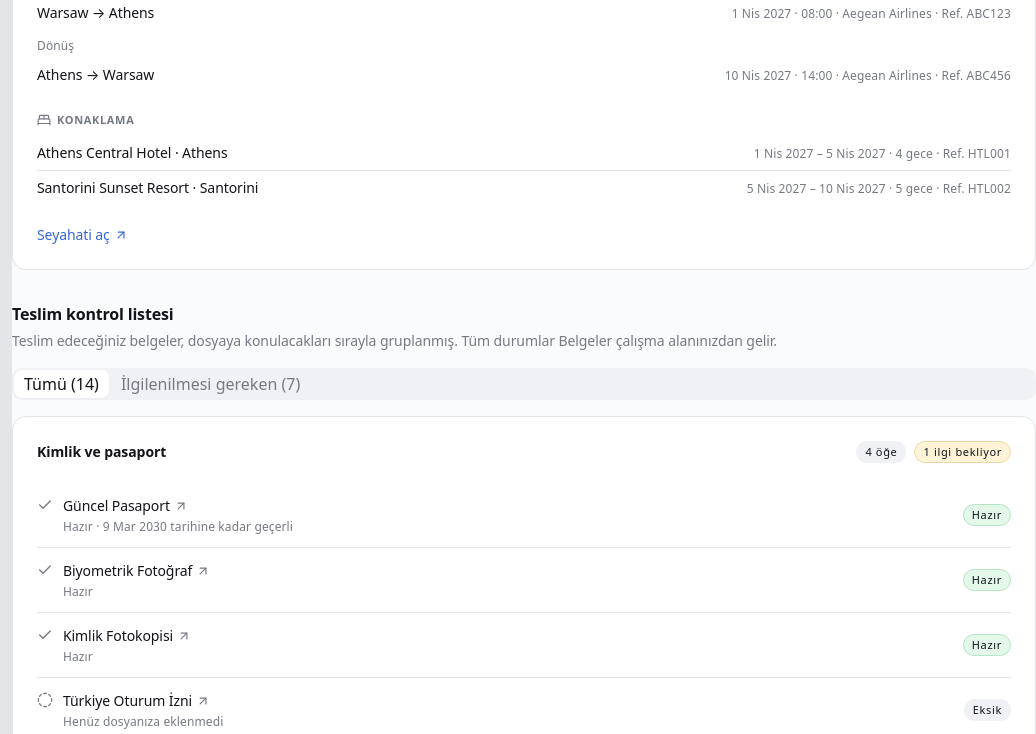
it: Final Review — checklist filter › isolates the unresolved items when filtered
The image size is (1036, 734).
(page scrolled)
Check: the radio button labelled "Tümü (14)" is shown, box top-left (14, 370), bottom-right (109, 398)
Click the radio button labelled "İlgilenilmesi gereken (7)" at {"x": 211, "y": 384}, box top-left (111, 370), bottom-right (310, 398)
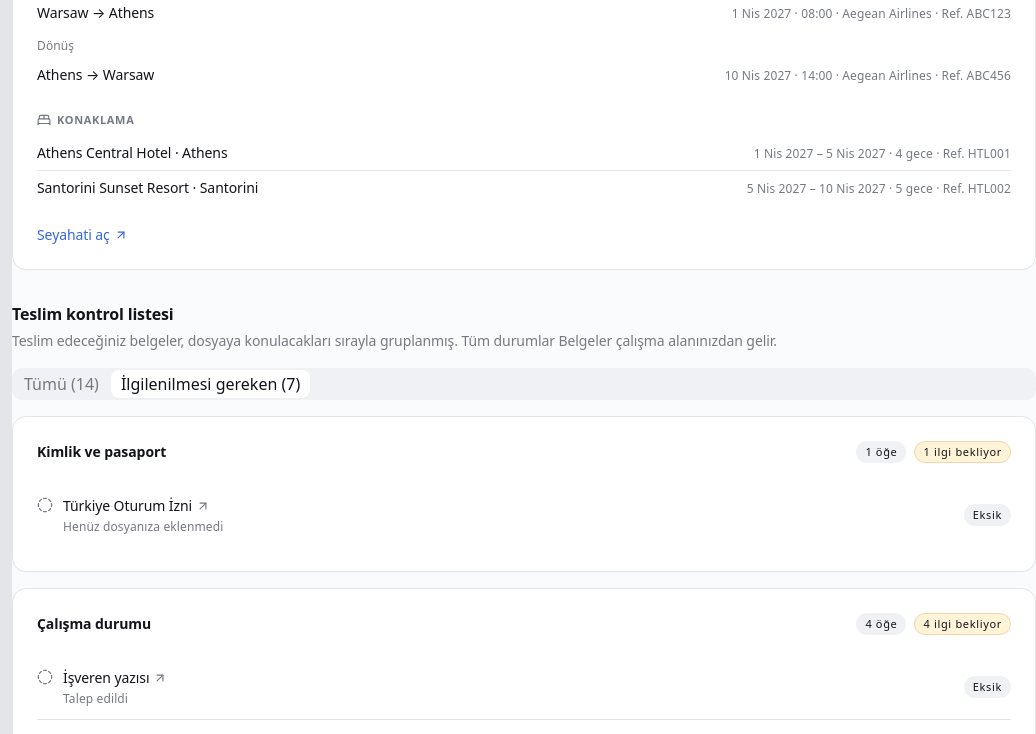
...and switching back restores the full list exactly.
Click the radio button labelled "Tümü (14)" at {"x": 61, "y": 384}, box top-left (14, 370), bottom-right (109, 398)
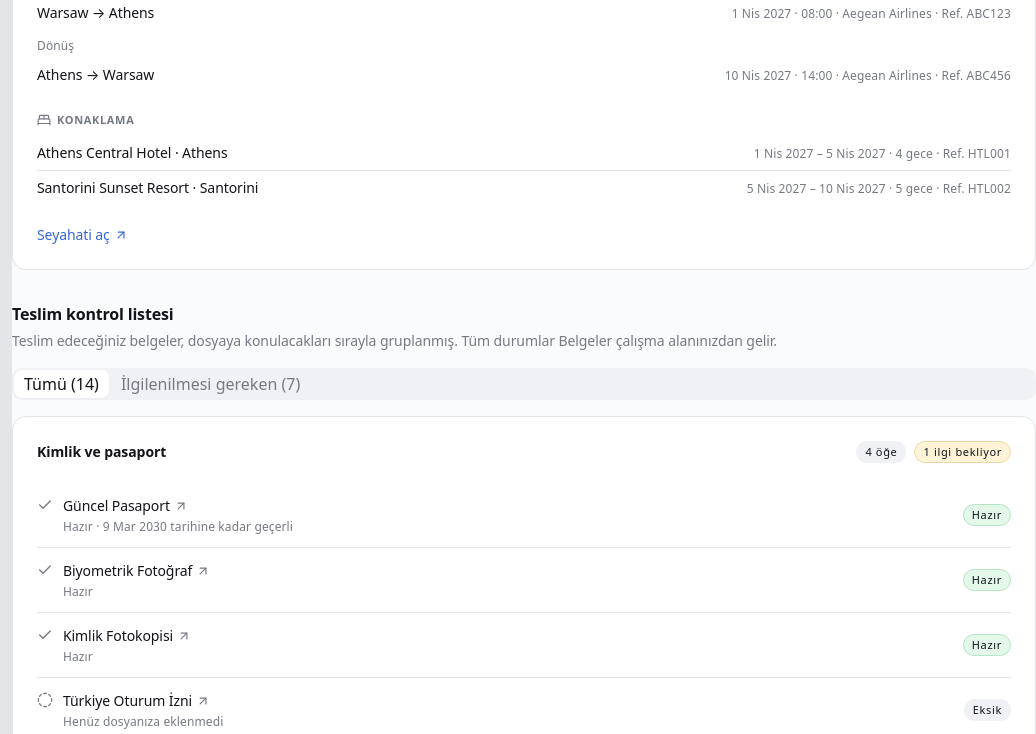
Check: the number of list items is 42
